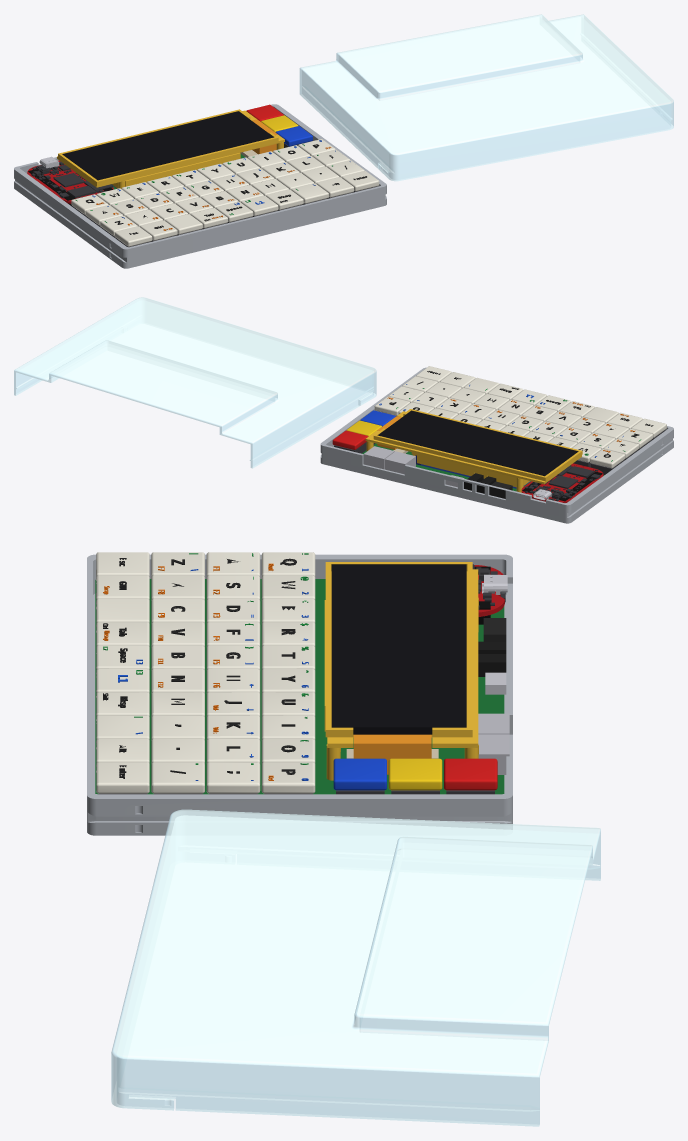
Rendered from beside_chrome.glb.
3 renders of one model, top to bottom at view 1: azimuth 30°, elevation 25°; view 2: azimuth 150°, elevation 25°; view 3: azimuth 270°, elevation 25°, orthographic. The views are drawn at different scales.
Parts seen in each view (by area): view 1: Lid, Internals, Tray; view 2: Lid, Internals, Tray; view 3: Lid, Internals, Tray.
Part boxes in pixels (x1,y1,x2,y2): Lid: (299, 14, 673, 181); Internals: (27, 104, 379, 247); Tray: (14, 104, 386, 268); Lid: (14, 297, 376, 468); Internals: (332, 366, 666, 502); Tray: (320, 367, 673, 523); Lid: (111, 809, 600, 1126); Internals: (95, 552, 509, 794); Tray: (87, 554, 512, 835).
Bounding box in the file's own units: 0.3903 × 0.0227 × 0.1583.
